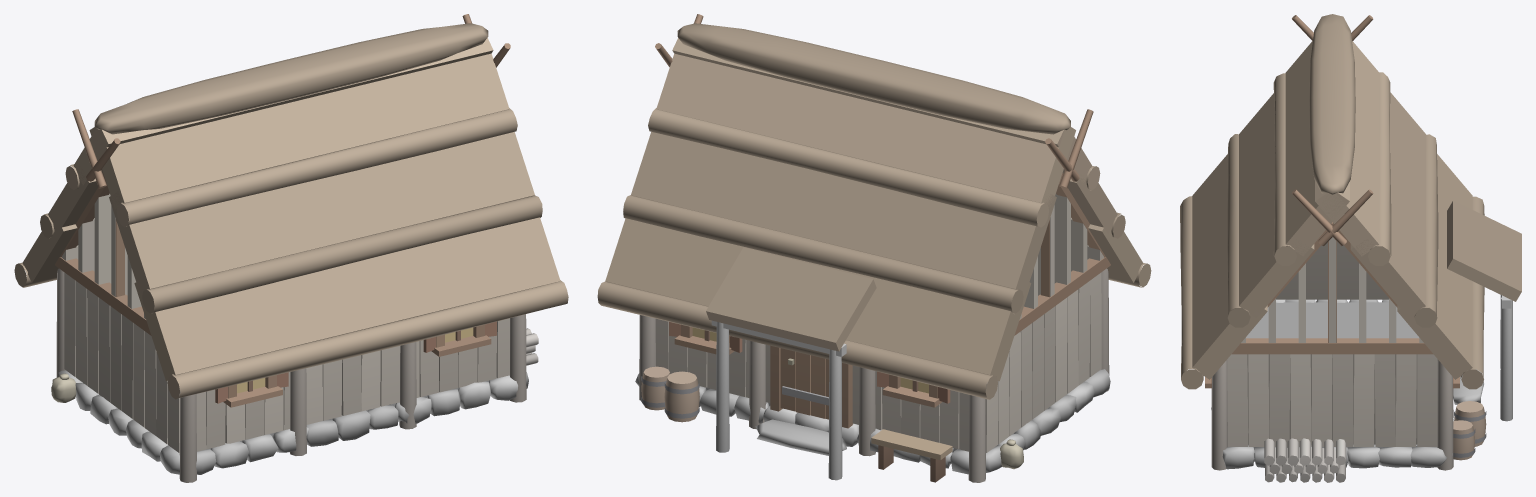
The model's file is hw_longhouse.glb.
3 renders of one model, left to right at view 1: azimuth 30°, elevation 25°; view 2: azimuth 150°, elevation 25°; view 3: azimuth 270°, elevation 25°, orthographic. The views are drawn at different scales.
Visible parts, largest first — view 1: Building; view 2: Building; view 3: Building.
Boxes of the visible parts, x1,y1,x2,y2 form: Building: [14, 14, 568, 482]; Building: [597, 14, 1151, 482]; Building: [1180, 14, 1521, 482].
Size of the model in its own units: 4.72 by 3.62 by 3.73.
